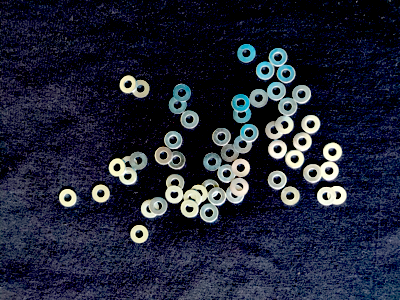circle: (234, 42, 257, 63), (322, 142, 344, 163), (179, 109, 200, 130), (255, 61, 276, 82), (268, 47, 289, 68), (265, 120, 286, 141), (167, 95, 189, 115), (248, 88, 270, 108), (129, 223, 149, 244), (301, 115, 322, 135), (203, 152, 224, 172), (284, 150, 305, 170), (303, 164, 323, 185), (317, 187, 338, 207), (268, 170, 289, 190), (180, 199, 200, 220), (129, 149, 148, 171), (140, 199, 160, 219), (231, 93, 251, 113), (276, 64, 296, 84), (267, 81, 287, 101), (292, 85, 312, 105), (268, 140, 288, 160), (319, 161, 339, 181), (281, 187, 301, 207), (132, 78, 151, 99), (155, 146, 174, 167), (92, 184, 111, 205), (278, 98, 299, 117), (225, 185, 246, 204), (164, 131, 184, 150), (119, 155, 138, 175), (58, 188, 77, 208), (149, 196, 168, 216), (166, 173, 185, 193), (164, 185, 184, 204), (232, 105, 252, 124), (221, 143, 240, 163), (292, 133, 312, 152), (208, 187, 227, 207), (172, 84, 194, 101), (118, 74, 137, 93), (167, 151, 186, 170), (240, 123, 259, 142), (213, 127, 232, 146), (233, 135, 252, 154), (218, 164, 237, 183), (232, 159, 251, 178), (329, 187, 348, 206), (190, 184, 209, 203), (276, 115, 294, 135), (231, 178, 249, 197), (200, 179, 219, 197), (201, 204, 219, 223), (184, 190, 203, 208), (109, 158, 126, 178), (119, 168, 139, 185)
